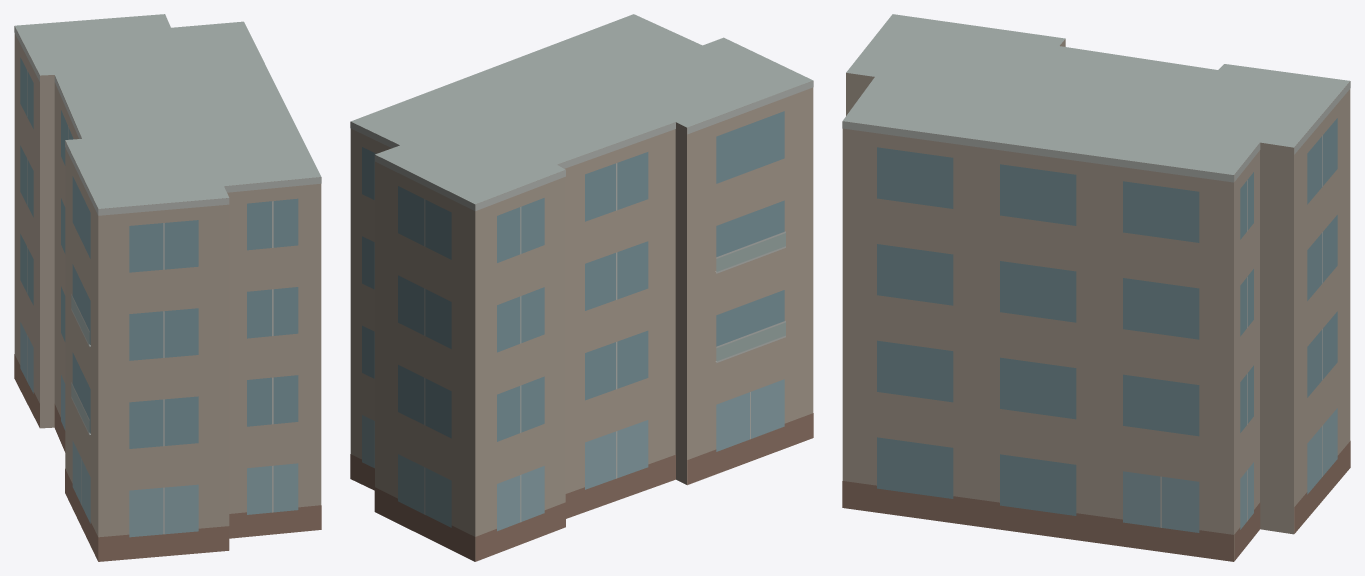
Rendered from survey-upis-32884956.glb.
3 views of the same model, side by side, from view 1: azimuth 30°, elevation 25°; view 2: azimuth 150°, elevation 25°; view 3: azimuth 270°, elevation 25° (orthographic). The views are drawn at different scales.
Visible parts, largest first — view 1: survey-upis-32884956.tmp; view 2: survey-upis-32884956.tmp; view 3: survey-upis-32884956.tmp.
Part boxes in pixels (x1,y1,x2,y2): survey-upis-32884956.tmp: (14, 14, 321, 561); survey-upis-32884956.tmp: (350, 14, 813, 561); survey-upis-32884956.tmp: (842, 14, 1350, 561).
Size of the model in its own units: 11.36 by 12.7 by 15.13.
